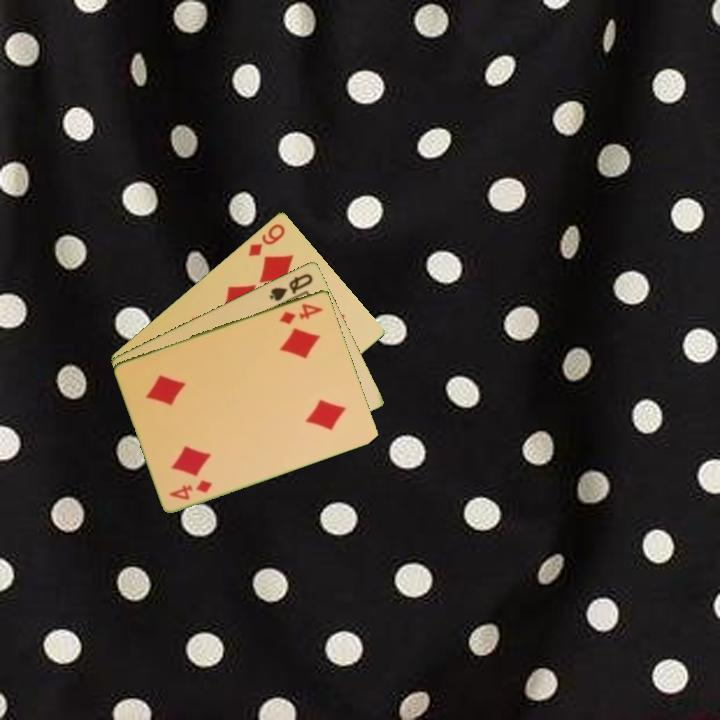4d: (275, 299, 326, 327), (165, 476, 215, 503)
9d: (244, 220, 288, 259)
Qs: (266, 270, 316, 304)
